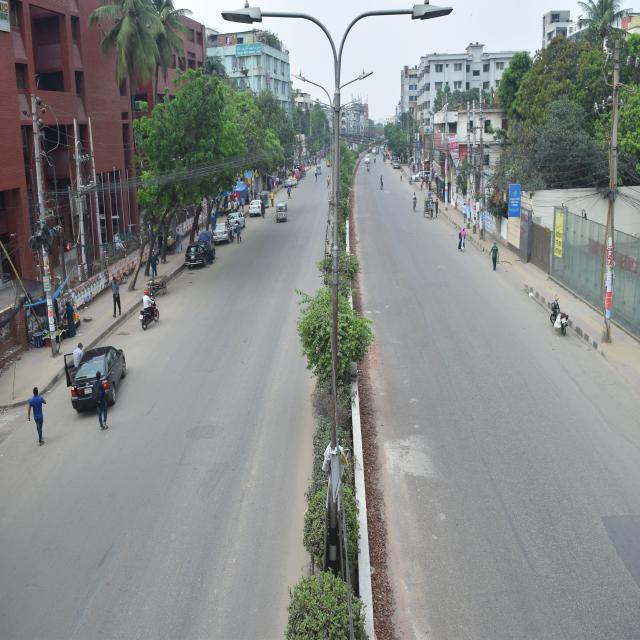car: (61, 338, 127, 422), (185, 235, 208, 279), (210, 221, 240, 249), (220, 208, 250, 232), (245, 195, 262, 222)
motorbike: (128, 280, 164, 338), (547, 297, 574, 337)
